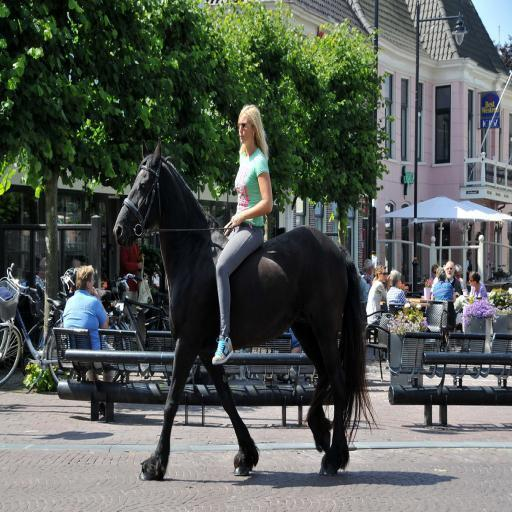horse: (110, 138, 382, 480)
